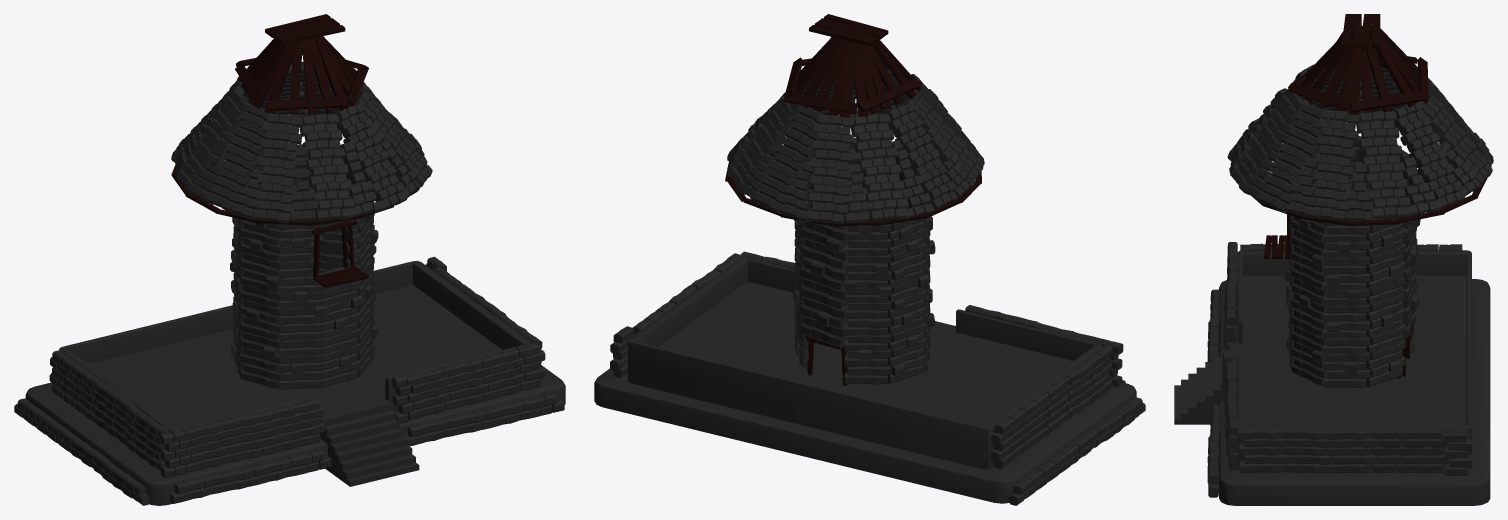
The model's file is Hut.obj.
The picture shows the model from 3 angles, left to right: view 1: azimuth 30°, elevation 25°; view 2: azimuth 150°, elevation 25°; view 3: azimuth 270°, elevation 25°; orthographic projection.
Visible parts, largest first — view 1: hut; view 2: hut; view 3: hut.
Part boxes in pixels (x1=…): hut: x1=14, y1=14, x2=565, y2=505; hut: x1=594, y1=14, x2=1145, y2=505; hut: x1=1174, y1=14, x2=1493, y2=505.
Bounding box in the file's own units: 10.88 × 9.25 × 6.96.
